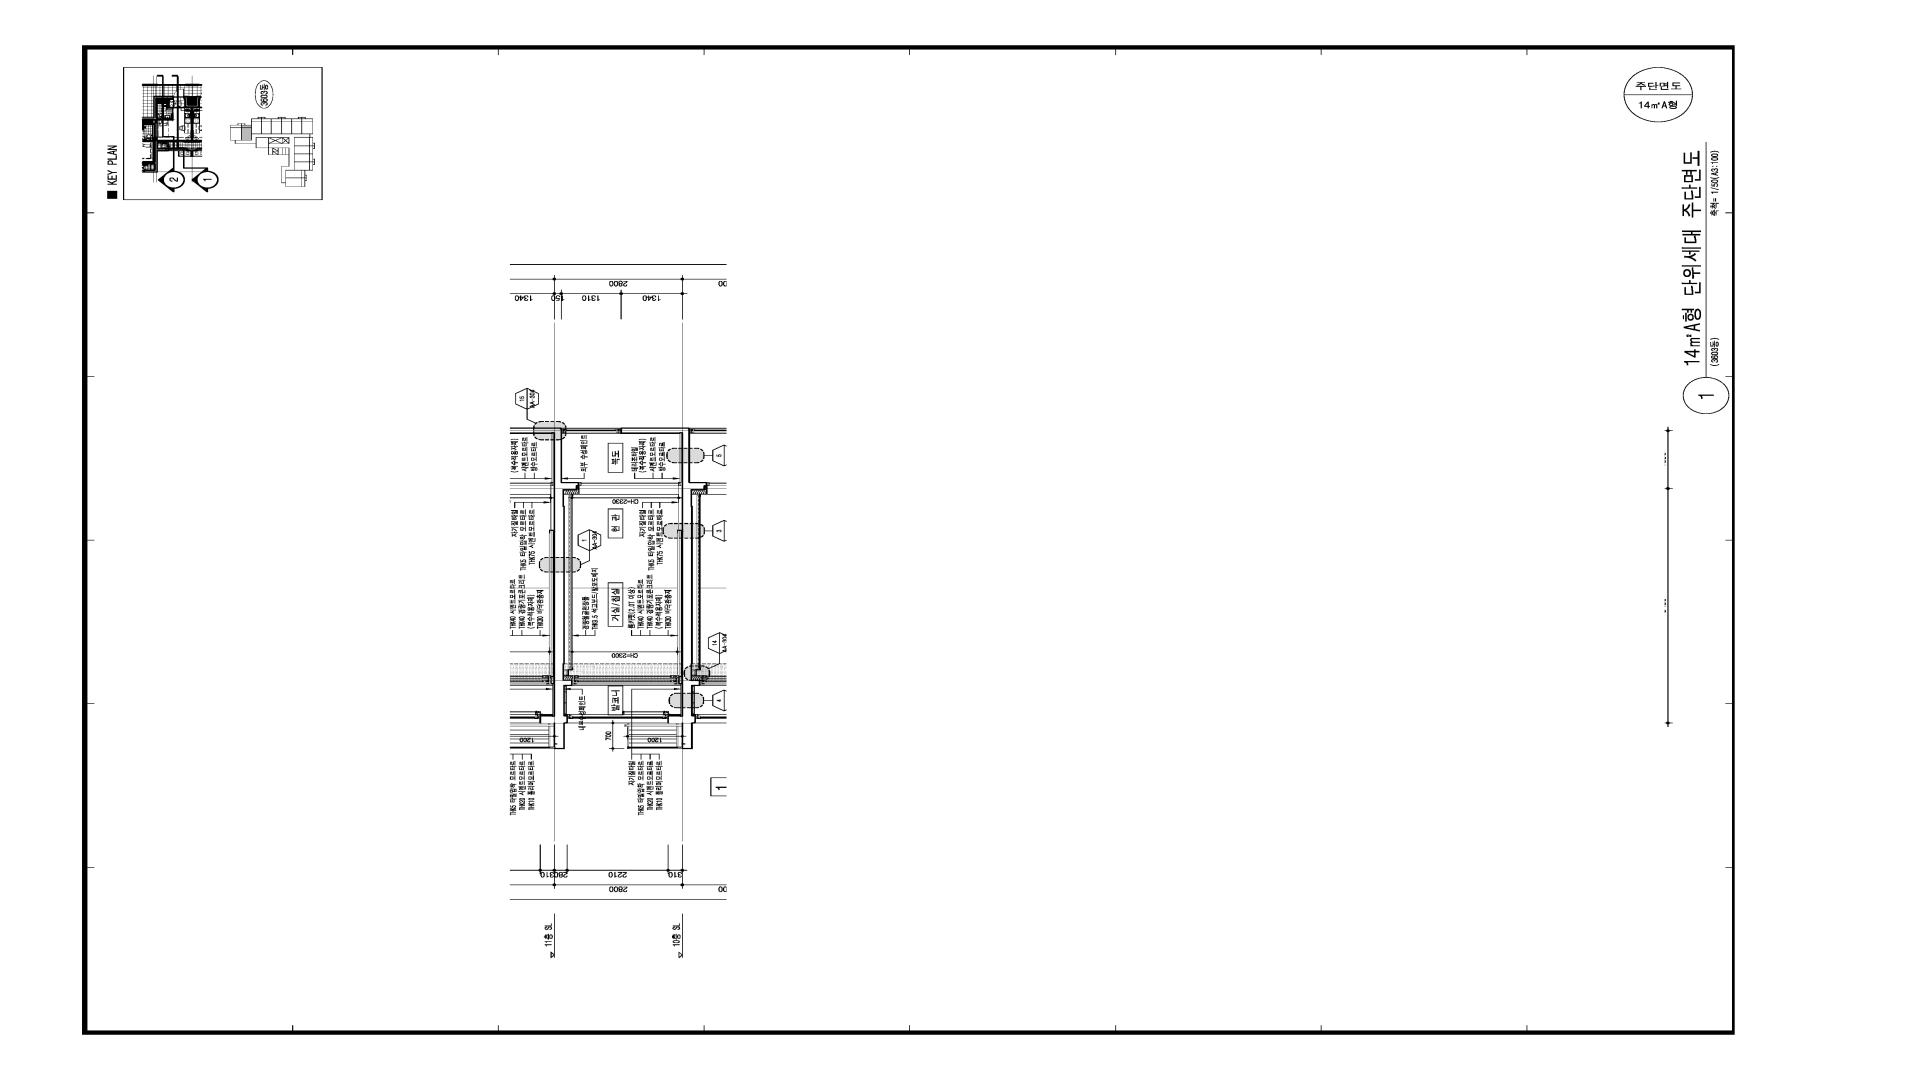door: (572, 482, 682, 498)
wall: (621, 427, 693, 724), (553, 428, 580, 724), (678, 676, 682, 684)
window: (573, 675, 682, 686), (567, 714, 667, 723), (562, 428, 620, 434)
